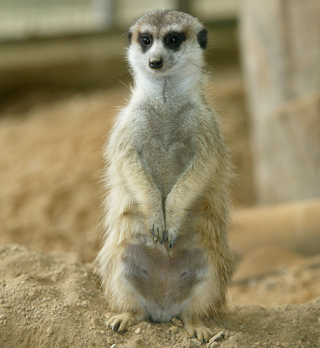meerkat: (100, 5, 239, 342)
